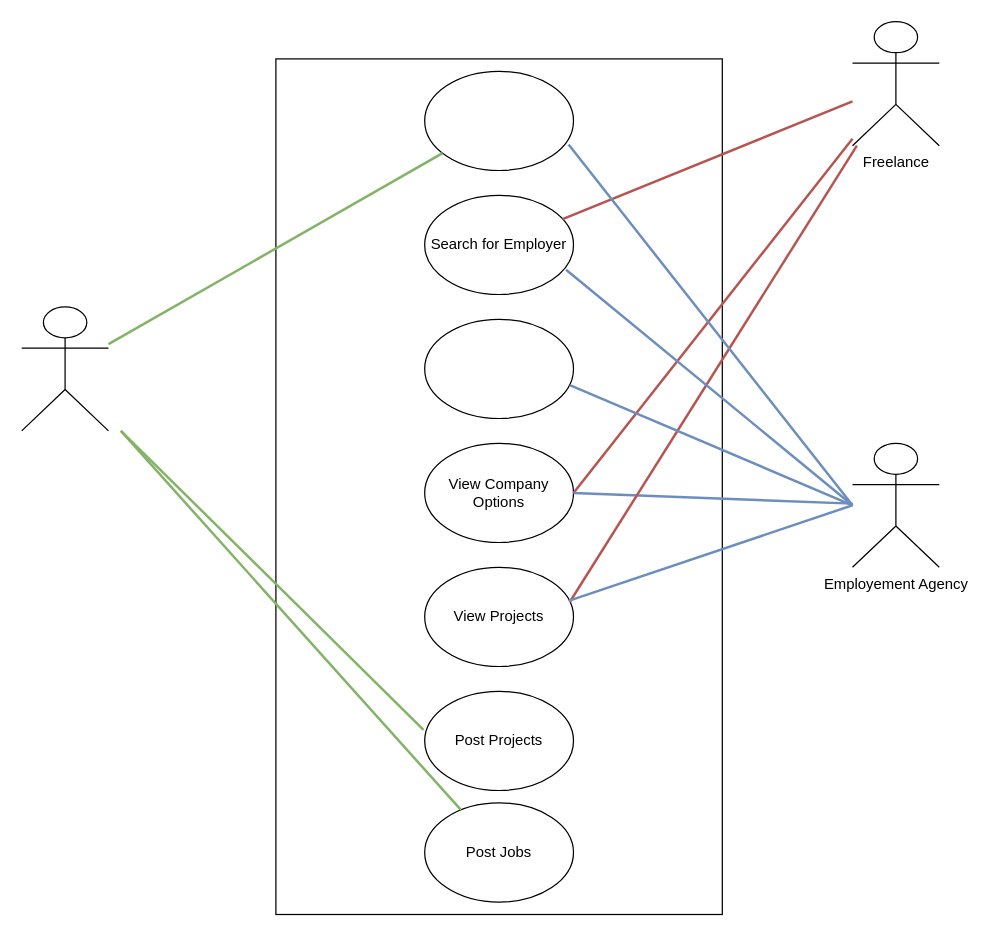
Image size: 990x936. Some labels were removed from this diagram. Here are the shapes that lost their labels. From the top down, the box of each, then its label:
(423, 70, 574, 170): Search for Employee
(20, 306, 108, 431): Company
(423, 318, 574, 418): Offering Employees
